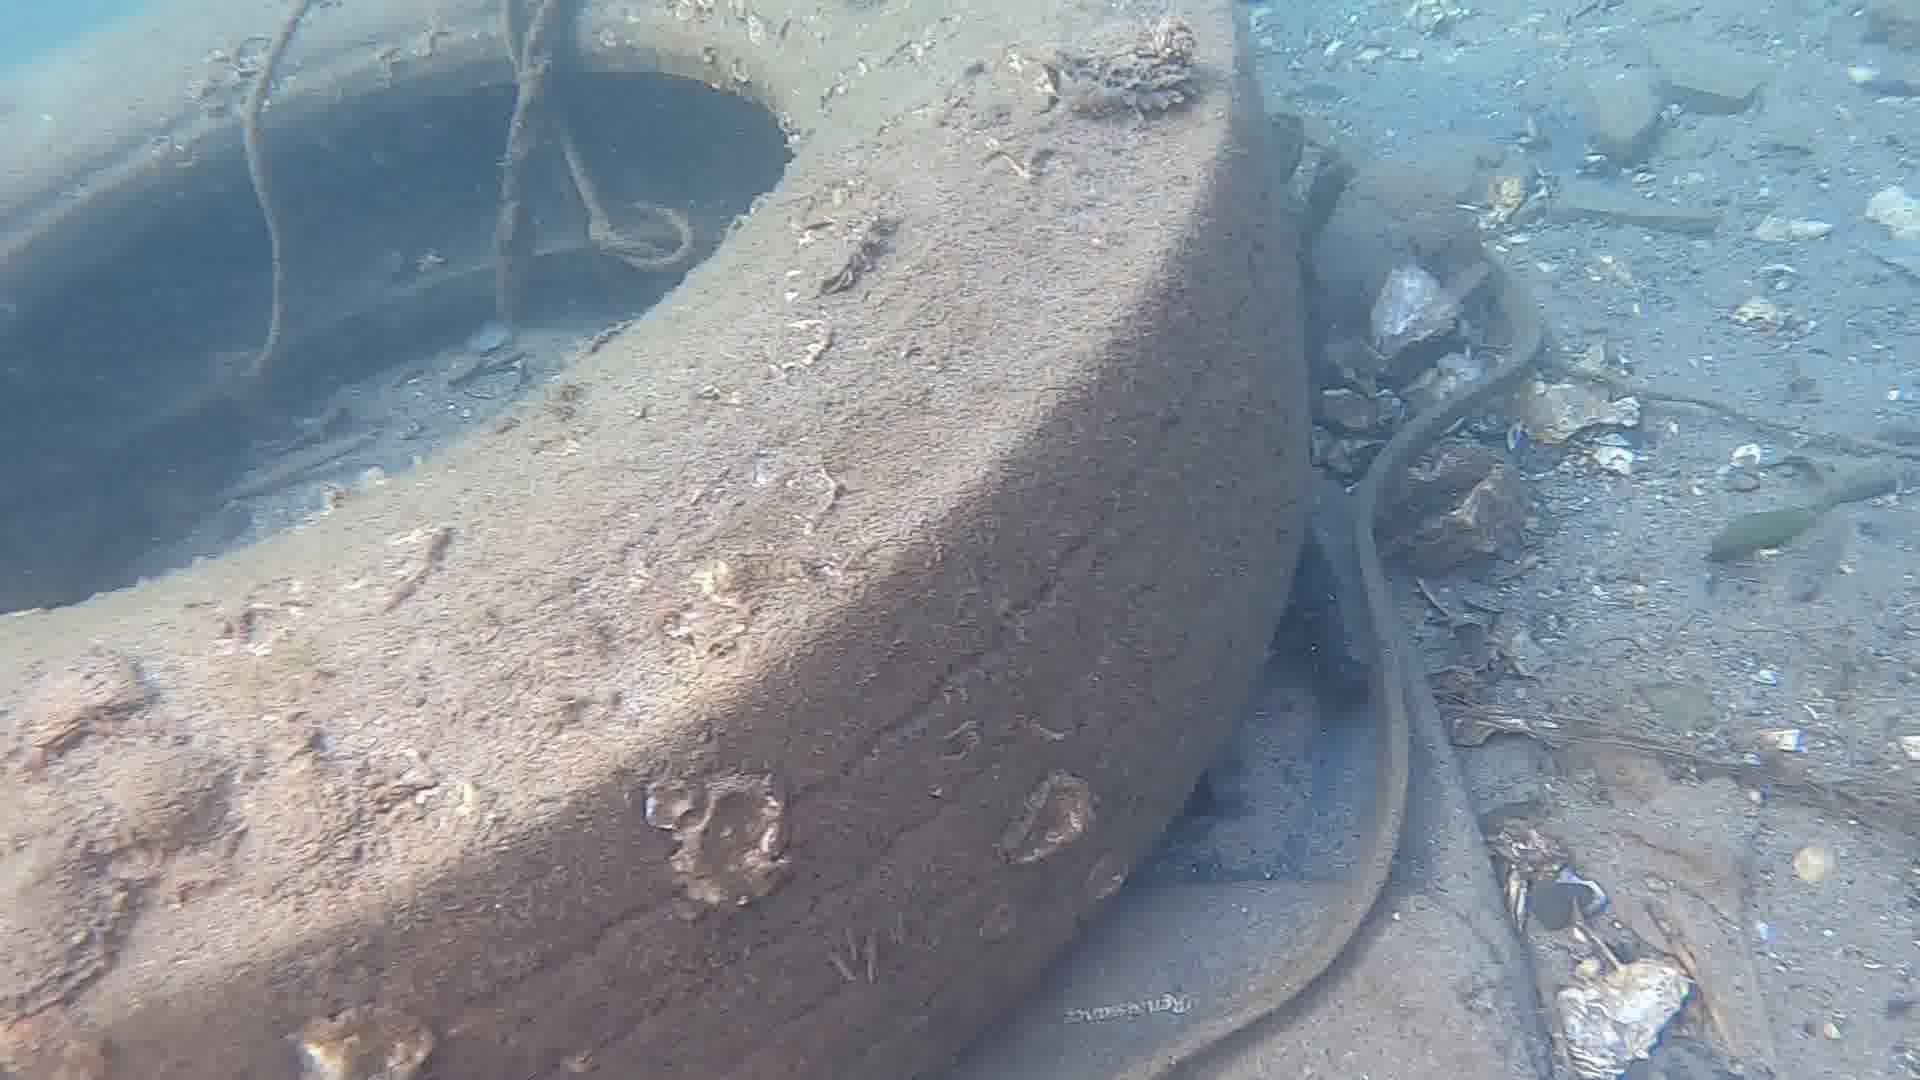bundle of ropes: (487, 0, 698, 272)
rope: (236, 0, 320, 375)
tire: (0, 0, 1308, 1080)
